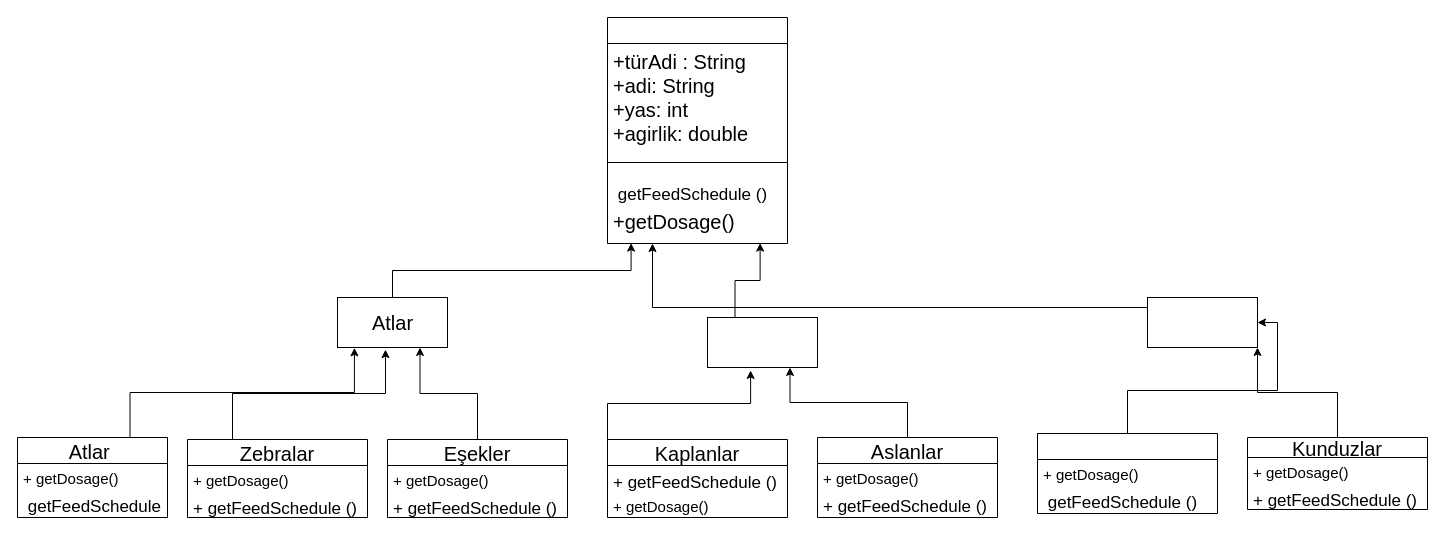
The diagram is 1445 pixels wide and 538 high, and some of its shapes have lost their labels. Each missing label, with the box of its shape:
Hayvanlar: (606, 16, 788, 244)
Kedigiller: (706, 316, 818, 368)
Kemirgenler: (1146, 296, 1258, 348)
Sıçanlar: (1036, 432, 1218, 514)
